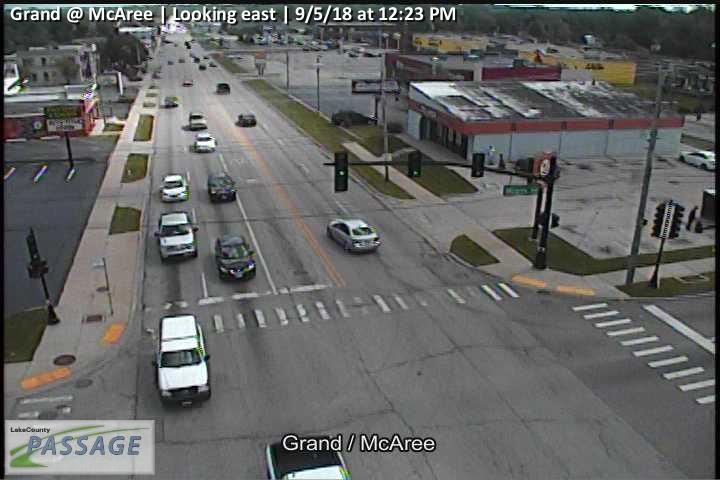SUV: (151, 313, 212, 408), (154, 211, 200, 263), (214, 233, 257, 281), (208, 172, 237, 203), (332, 110, 372, 127), (189, 111, 208, 130), (216, 82, 231, 94)
Sedan: (326, 217, 380, 252), (679, 148, 714, 171), (160, 174, 187, 202), (194, 132, 217, 153), (238, 111, 256, 127), (164, 96, 178, 107), (183, 79, 193, 86)
